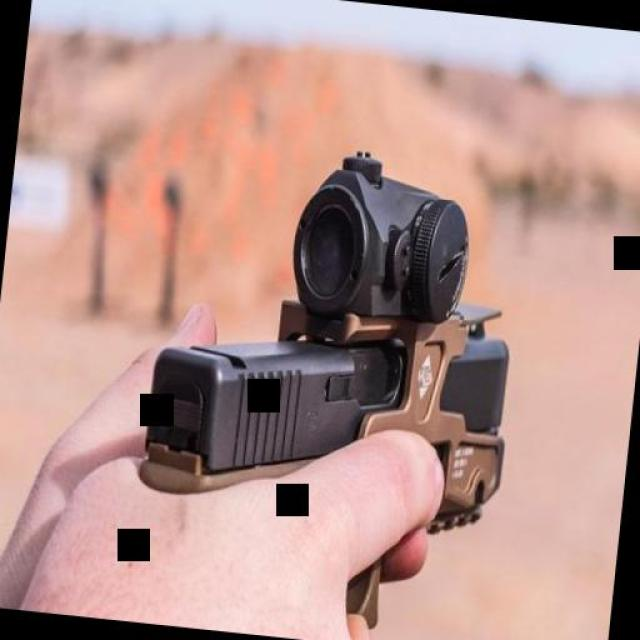gun: (110, 290, 525, 592)
